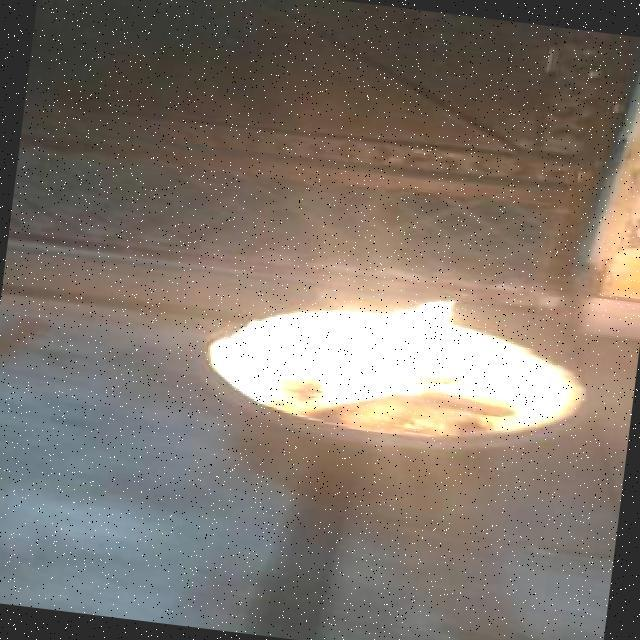Fire: (259, 280, 491, 418)
